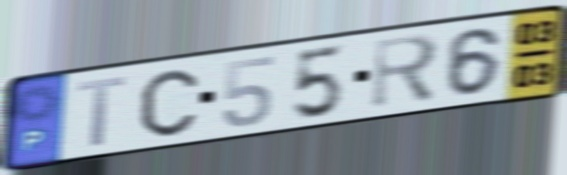5: (289, 41, 350, 121), (220, 52, 277, 129)
6: (445, 24, 508, 98)
C: (137, 67, 202, 139)
R: (369, 31, 443, 114)
T: (75, 73, 130, 150)
